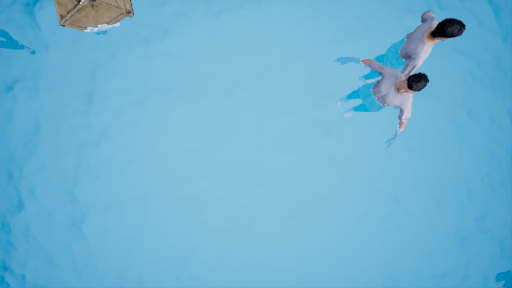person: (342, 11, 469, 151)
